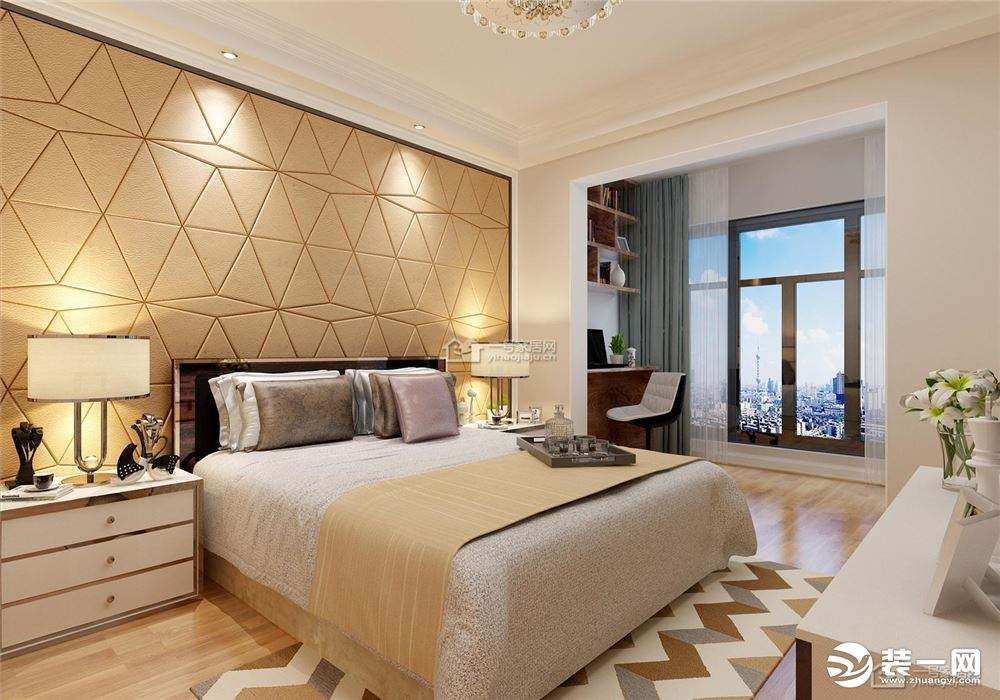床: (183, 428, 761, 681)
枕头: (208, 361, 465, 449)
灯: (26, 327, 150, 492), (458, 4, 622, 48), (470, 339, 539, 424), (216, 47, 241, 65), (408, 119, 428, 134)
